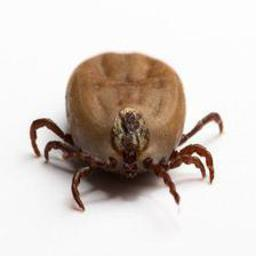Dermacentor variabilis: (27, 50, 225, 213)
